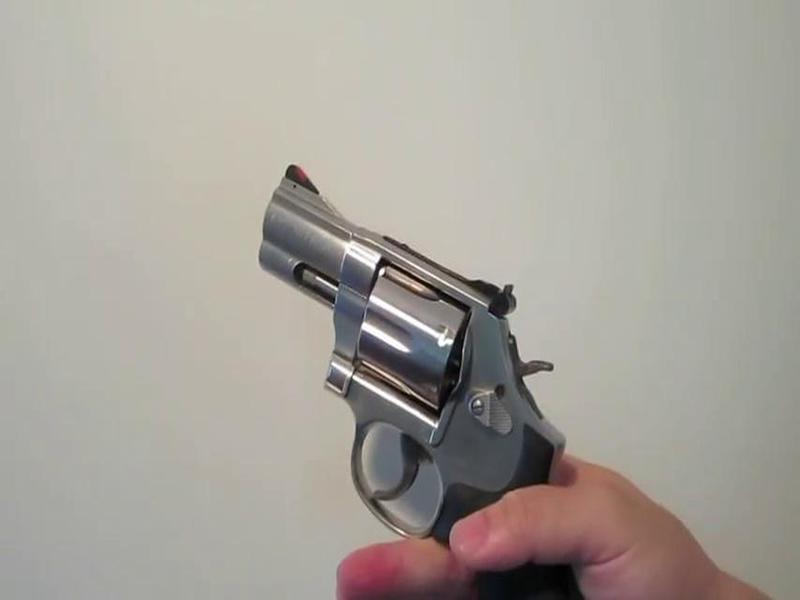Revolver: (239, 129, 587, 572)
